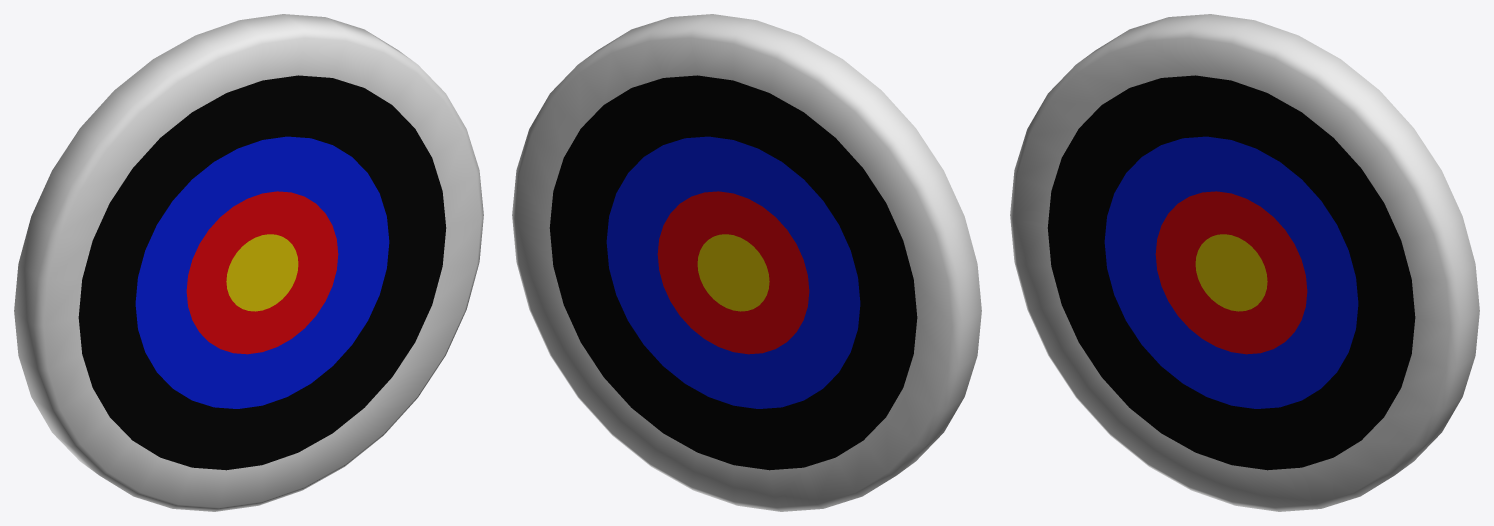
File: Target.fbx
3 views of the same model, side by side, from view 1: azimuth 30°, elevation 25°; view 2: azimuth 150°, elevation 25°; view 3: azimuth 330°, elevation 25° (orthographic).
Parts seen in each view (by area): view 1: Circle; view 2: Circle; view 3: Circle.
Boxes of the visible parts, box(x1,y1,x2,y2) form: Circle: box(14, 14, 483, 511); Circle: box(512, 14, 981, 511); Circle: box(1010, 14, 1479, 511).
Size of the model in its own units: 755 by 755 by 78.12.
